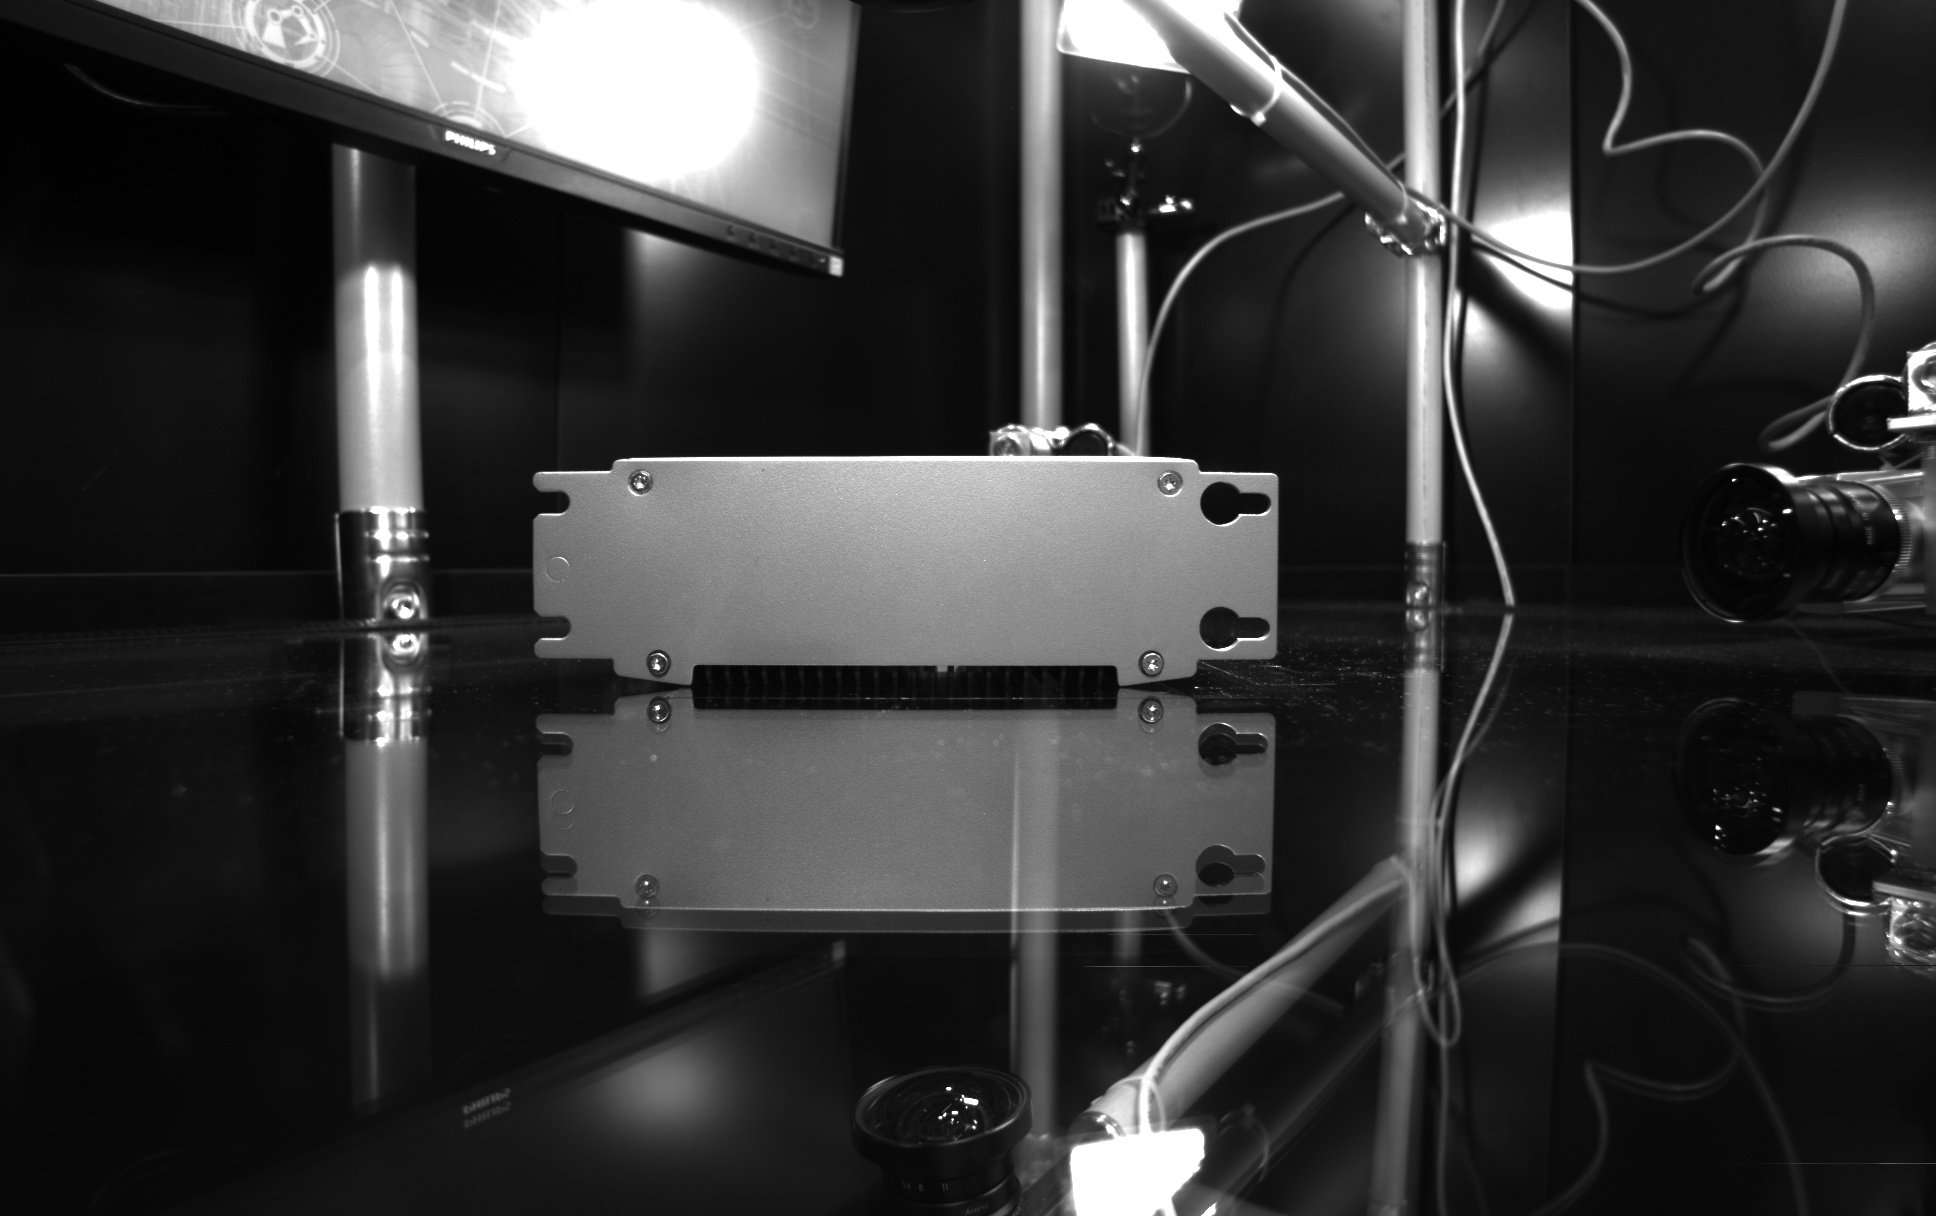CamBack: (504, 429, 1310, 686)
Schraube: (1152, 462, 1189, 502), (623, 462, 661, 500)
Schraube_gespiegelt: (628, 870, 665, 925), (1147, 871, 1185, 926), (1133, 692, 1171, 747), (642, 693, 679, 748)
Schraube_halb: (639, 643, 678, 682), (1133, 644, 1171, 684)
